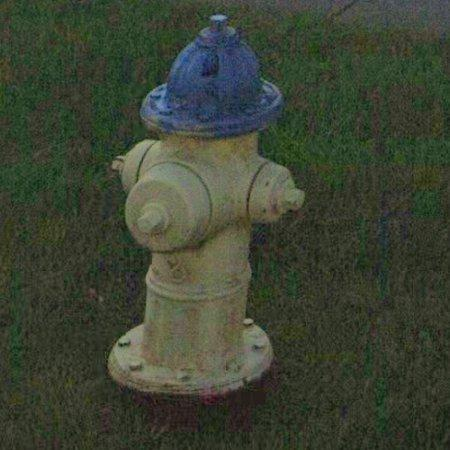a fire hydrant: (109, 14, 305, 395)
